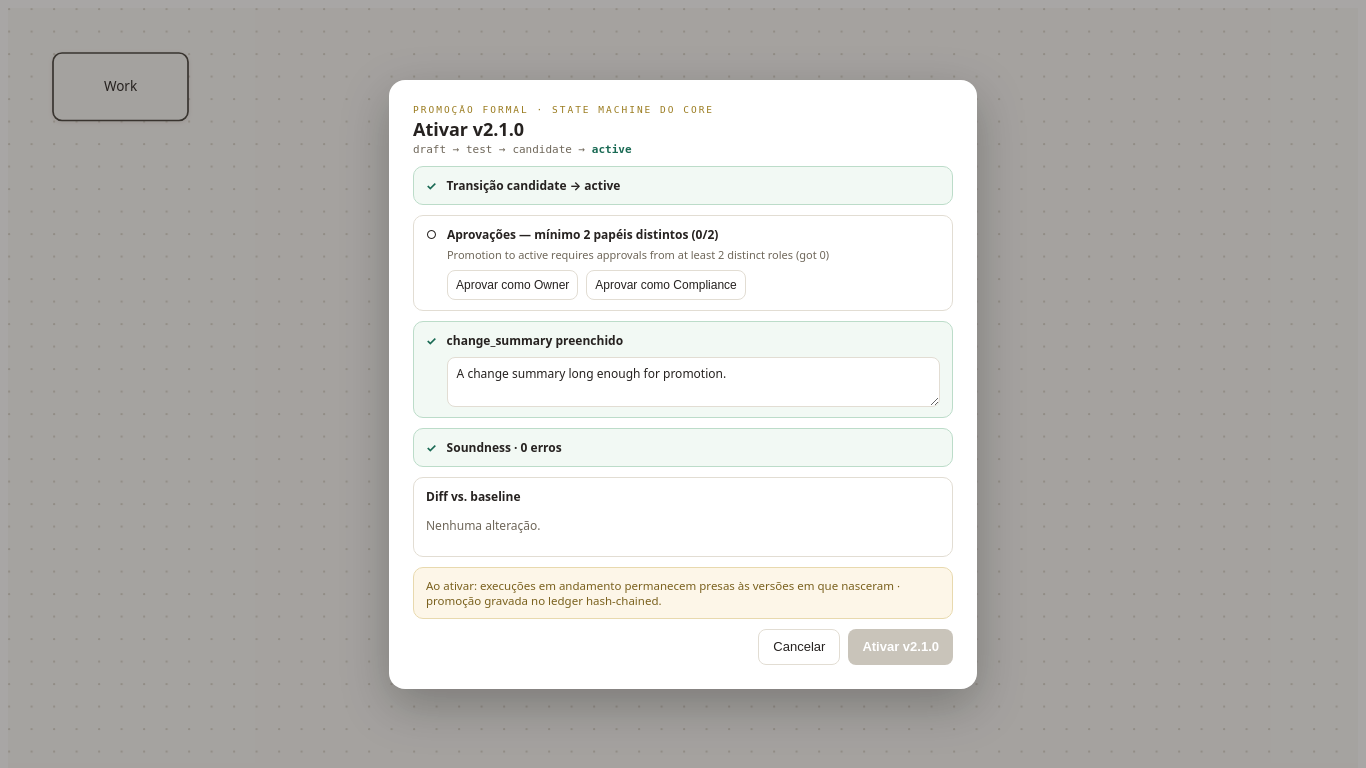
Test: PromotionPanel — gates reflect the core state machine › renders the engine quorum, blocks activation, and unblocks after distinct-role approvals
The image size is (1366, 768).
Check: the dialog "Ativar v2.1.0" shows "(0/2)", box [688,226,718,242]
Check: the button "Ativar v2.1.0" is disabled, box [848,628,953,664]
What coordinates should you click on to do the following:
click the button "Aprovar como Owner"
I would click on:
 (513, 284)
Its box is [447,270,578,300].
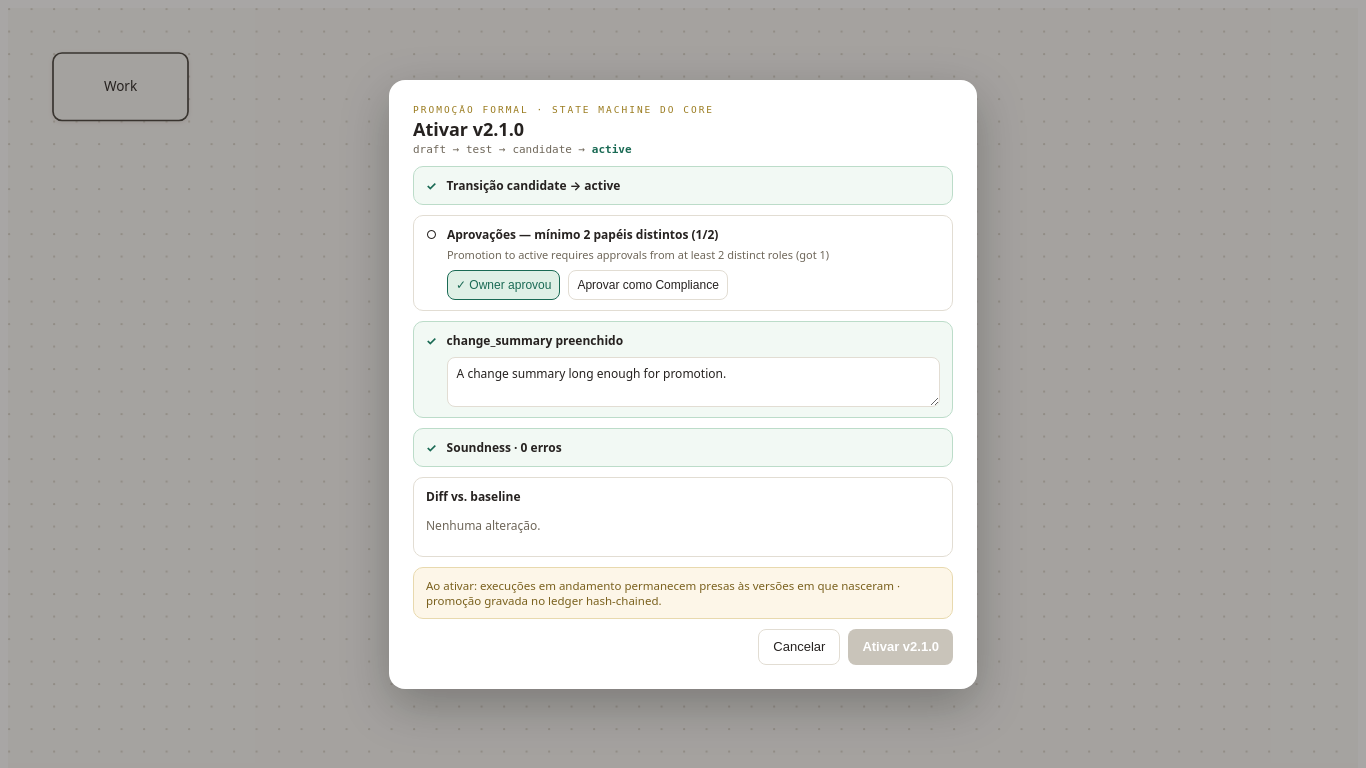
Check: the button "Ativar v2.1.0" is disabled, box [848,628,953,664]
Check: the dialog "Ativar v2.1.0" shows "(1/2)", box [688,226,718,242]
Check: the button "✓ Owner aprovou" is disabled, box [447,270,560,300]
What coordinates should you click on to do the following:
click the button "Aprovar como Compliance"
I would click on:
 (648, 284)
Its box is [568,270,728,300].
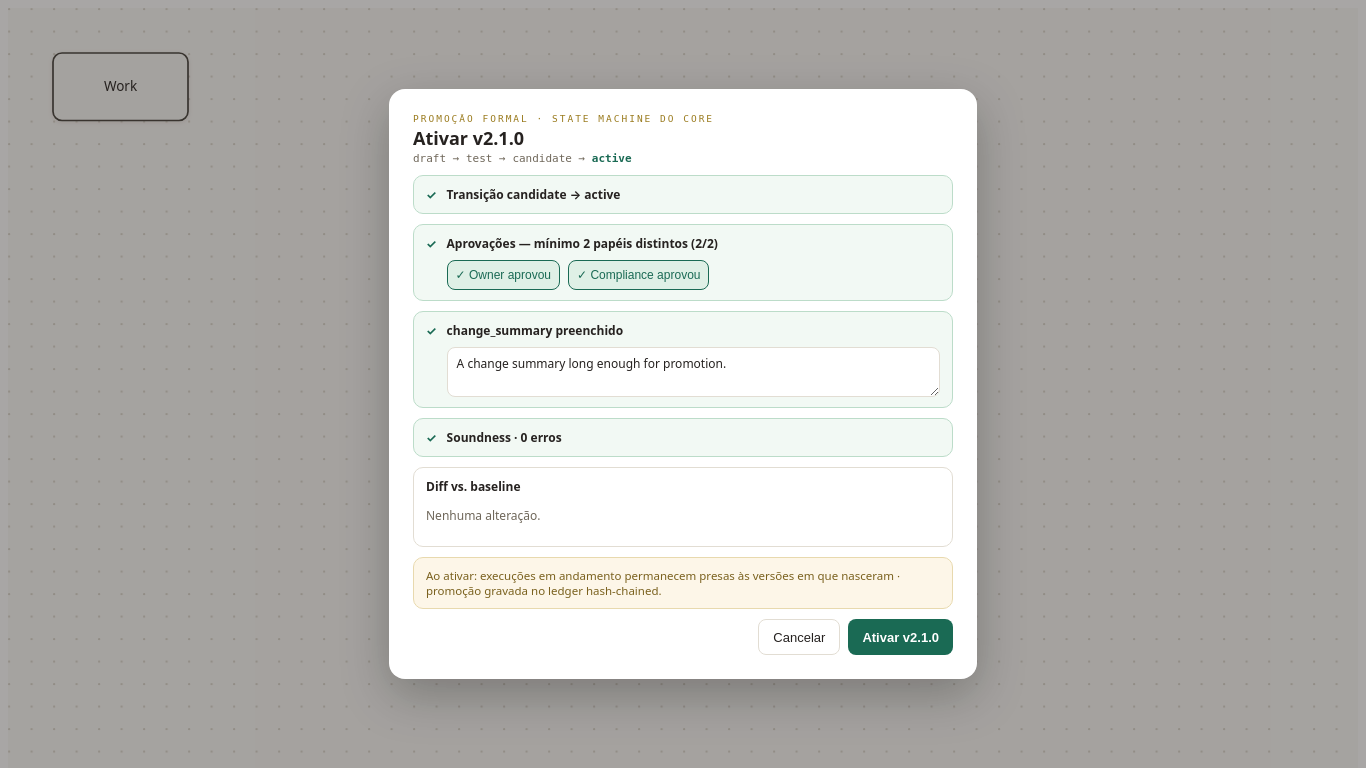
Check: the dialog "Ativar v2.1.0" shows "(2/2)", box [688,235,718,252]
Check: the button "Ativar v2.1.0" is enabled, box [848,619,953,655]
